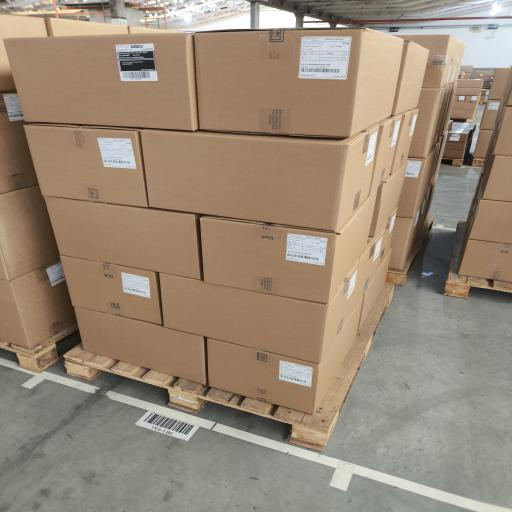pallet: (65, 283, 393, 450), (445, 220, 511, 298), (0, 324, 79, 372), (387, 215, 435, 286), (451, 114, 476, 122), (442, 158, 463, 166), (471, 157, 485, 167)
